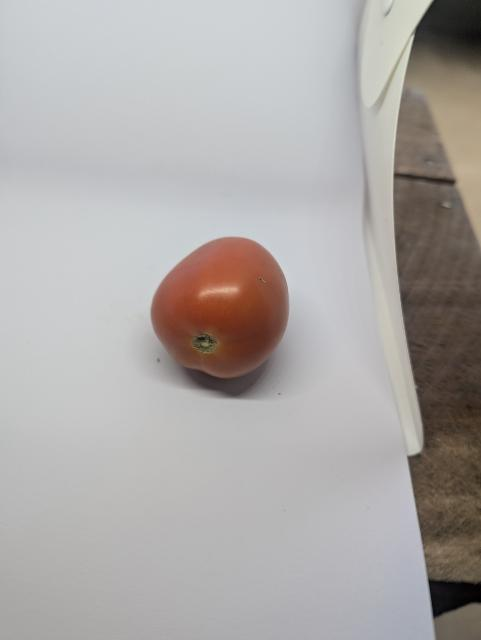red: (135, 225, 317, 389)
